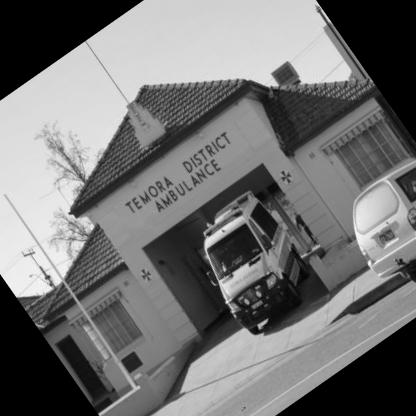ambulance: (171, 173, 339, 350)
car: (323, 146, 416, 322)
